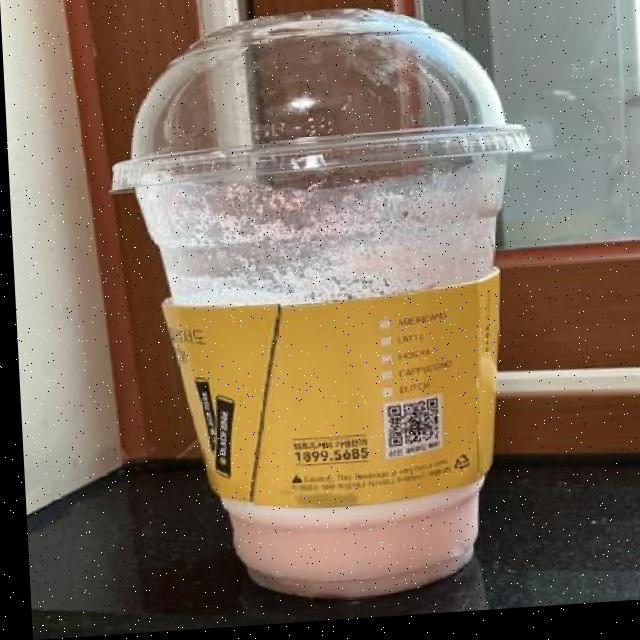cup: (89, 0, 538, 616)
